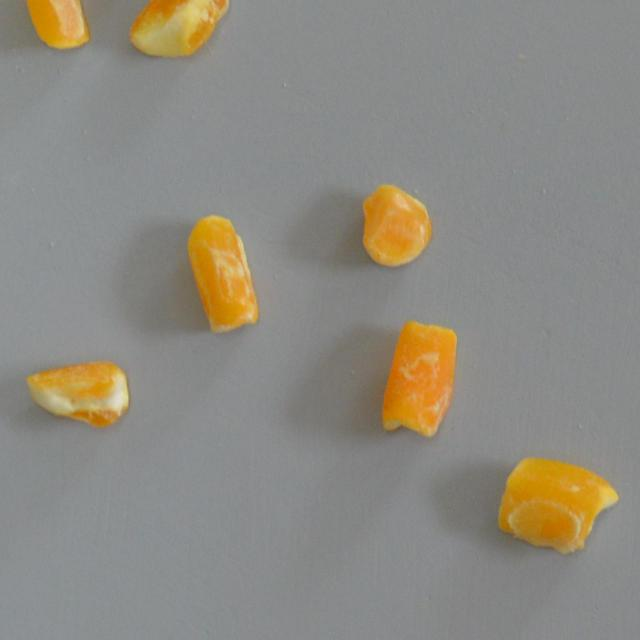pelicula: (492, 453, 626, 558), (376, 315, 461, 442), (183, 212, 262, 335), (20, 358, 132, 432), (356, 177, 432, 268), (125, 0, 234, 63), (20, 0, 94, 54)
